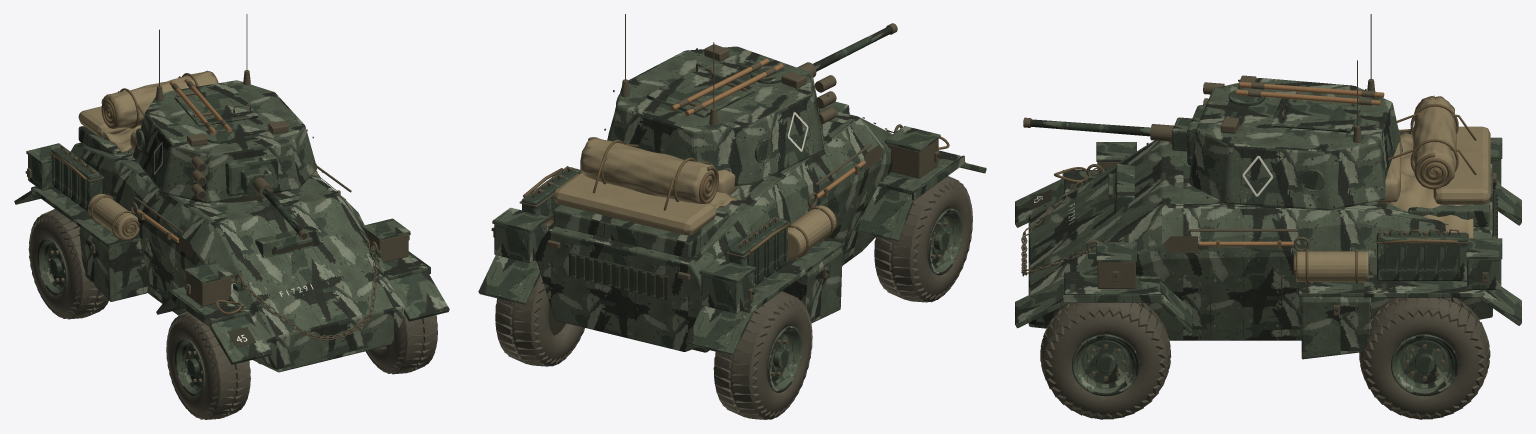
The model's file is browser-digital-urban.glb.
3 views of the same model, side by side, from view 1: azimuth 30°, elevation 25°; view 2: azimuth 150°, elevation 25°; view 3: azimuth 270°, elevation 25° (orthographic). The views are drawn at different scales.
Visible parts, largest first — view 1: hull--armor-surface-0, turret-pivot--armor-surface-0, front-fenders--armor-surface-0, wheel-left-front--rubber-surface-0, rear-stowage--canvas-surface-0, wheel-left-rear--rubber-surface-0, side-boxes--armor-surface-0, wheel-right-front--rubber-surface-0, hull--armor-edge-surface-0, front-fenders--armor-edge-surface-0, front-fenders--steel-surface-0, hatch--armor-surface-0 (+16 smaller); view 2: hull--armor-surface-0, turret-pivot--armor-surface-0, rear-stowage--canvas-surface-0, wheel-left-rear--rubber-surface-0, wheel-left-front--rubber-surface-0, rear-fenders--armor-surface-0, wheel-right-rear--rubber-surface-0, front-fenders--armor-surface-0, rear-boxes--armor-surface-0, rear-stowage--armor-surface-0, side-boxes--armor-surface-0, hatch--armor-surface-0 (+17 smaller); view 3: hull--armor-surface-0, turret-pivot--armor-surface-0, rear-stowage--canvas-surface-0, wheel-right-rear--rubber-surface-0, wheel-right-front--rubber-surface-0, hull--armor-edge-surface-0, front-fenders--armor-surface-0, side-boxes--armor-surface-0, rear-stowage--armor-surface-0, rear-fenders--armor-surface-0, wheel-right-rear--armor-surface-0, wheel-right-front--armor-surface-0 (+15 smaller).
Boxes of the visible parts, left/top/right/bottom form: hull--armor-surface-0: left=70, top=126, right=404, bottom=372; turret-pivot--armor-surface-0: left=133, top=80, right=316, bottom=203; front-fenders--armor-surface-0: left=156, top=254, right=449, bottom=364; wheel-left-front--rubber-surface-0: left=166, top=311, right=250, bottom=419; rear-stowage--canvas-surface-0: left=78, top=70, right=320, bottom=239; wheel-left-rear--rubber-surface-0: left=28, top=209, right=108, bottom=319; side-boxes--armor-surface-0: left=79, top=228, right=147, bottom=301; wheel-right-front--rubber-surface-0: left=365, top=315, right=437, bottom=374; hull--armor-edge-surface-0: left=75, top=144, right=337, bottom=314; front-fenders--armor-edge-surface-0: left=166, top=218, right=430, bottom=327; front-fenders--steel-surface-0: left=186, top=230, right=408, bottom=306; hatch--armor-surface-0: left=174, top=87, right=258, bottom=126; hull--armor-surface-0: left=535, top=101, right=892, bottom=351; turret-pivot--armor-surface-0: left=607, top=46, right=823, bottom=186; rear-stowage--canvas-surface-0: left=544, top=137, right=836, bottom=259; wheel-left-rear--rubber-surface-0: left=713, top=291, right=812, bottom=419; wheel-left-front--rubber-surface-0: left=874, top=176, right=972, bottom=302; rear-fenders--armor-surface-0: left=478, top=255, right=823, bottom=355; wheel-right-rear--rubber-surface-0: left=495, top=274, right=584, bottom=366; front-fenders--armor-surface-0: left=854, top=150, right=986, bottom=241; rear-boxes--armor-surface-0: left=494, top=223, right=753, bottom=313; rear-stowage--armor-surface-0: left=522, top=166, right=787, bottom=286; side-boxes--armor-surface-0: left=782, top=247, right=842, bottom=323; hatch--armor-surface-0: left=646, top=69, right=755, bottom=117; hull--armor-surface-0: left=1028, top=140, right=1497, bottom=340; turret-pivot--armor-surface-0: left=1189, top=78, right=1402, bottom=210; rear-stowage--canvas-surface-0: left=1296, top=96, right=1490, bottom=281; wheel-right-rear--rubber-surface-0: left=1359, top=297, right=1490, bottom=419; wheel-right-front--rubber-surface-0: left=1040, top=302, right=1171, bottom=419; hull--armor-edge-surface-0: left=1108, top=173, right=1488, bottom=337; front-fenders--armor-surface-0: left=1015, top=171, right=1192, bottom=332; side-boxes--armor-surface-0: left=1301, top=296, right=1370, bottom=359; rear-stowage--armor-surface-0: left=1377, top=132, right=1468, bottom=280; rear-fenders--armor-surface-0: left=1339, top=186, right=1521, bottom=325; wheel-right-rear--armor-surface-0: left=1391, top=334, right=1458, bottom=396; wheel-right-front--armor-surface-0: left=1071, top=334, right=1139, bottom=396.
Size of the model in its own units: 2.76 by 3.32 by 4.61.
Materials: 10 (9 with a texture image).
